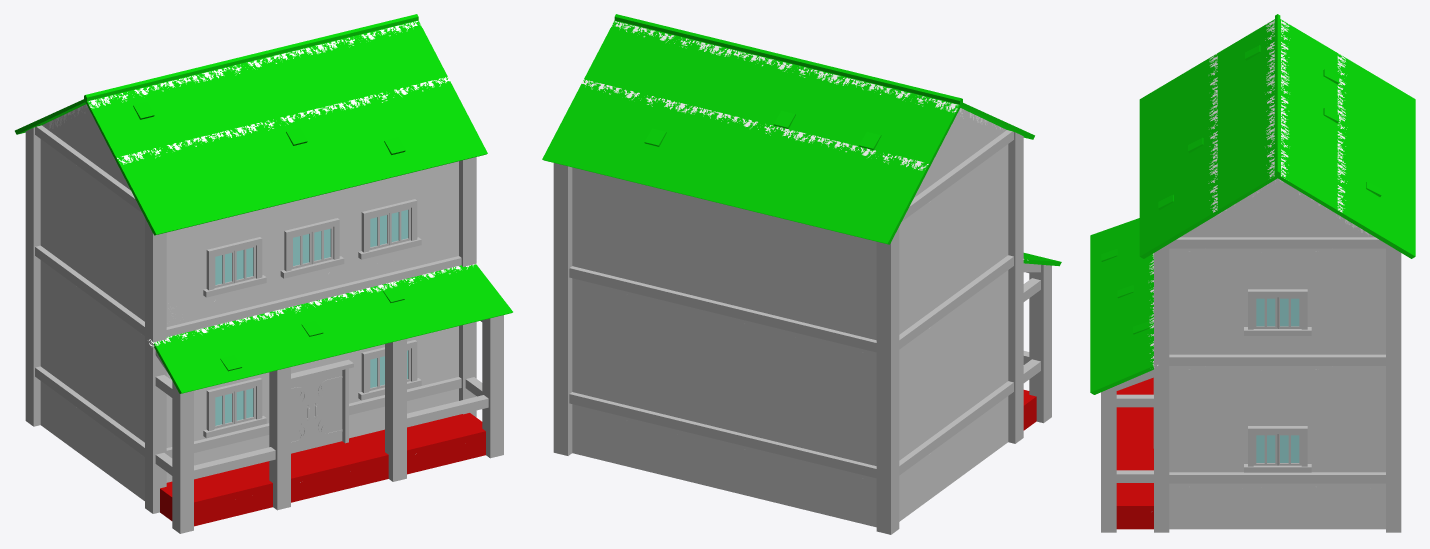
Rendered from House_2f_2.fbx.
3 views of the same model, side by side, from view 1: azimuth 30°, elevation 25°; view 2: azimuth 150°, elevation 25°; view 3: azimuth 270°, elevation 25° (orthographic). The views are drawn at different scales.
Visible parts, largest first — view 1: House_2f_2; view 2: House_2f_2; view 3: House_2f_2.
Part boxes in pixels (<box>): House_2f_2: <box>15,14,512,533</box>; House_2f_2: <box>542,14,1061,534</box>; House_2f_2: <box>1090,14,1415,532</box>.
Size of what is drawn, in the model's own units: 963 by 1052 by 841.
